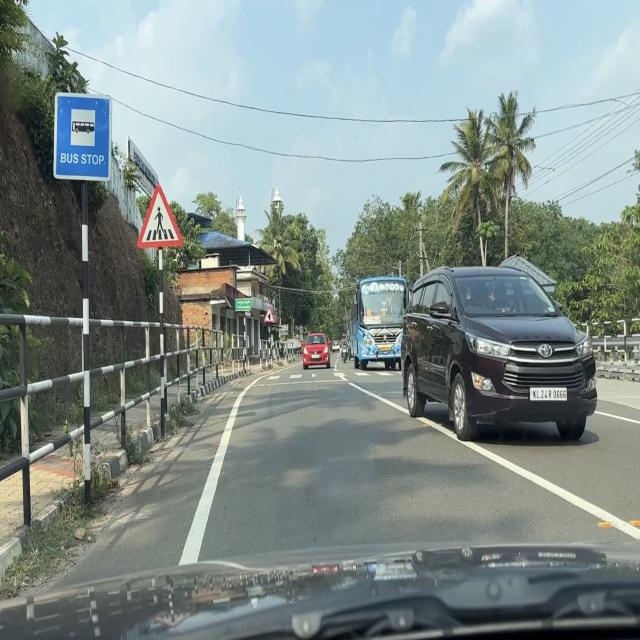GENERAL: (235, 298, 252, 312)
INFORMATION: (53, 91, 112, 183)
PEDESTRIAN_CROSSING: (136, 183, 184, 250)
SIDE_ROAD_LEFT: (264, 306, 275, 323)
